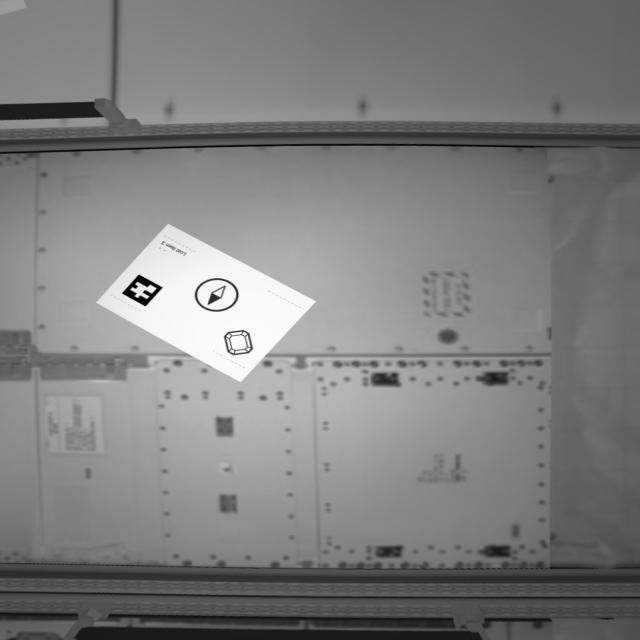compass: (194, 279, 243, 313)
emerald: (222, 333, 259, 357)
